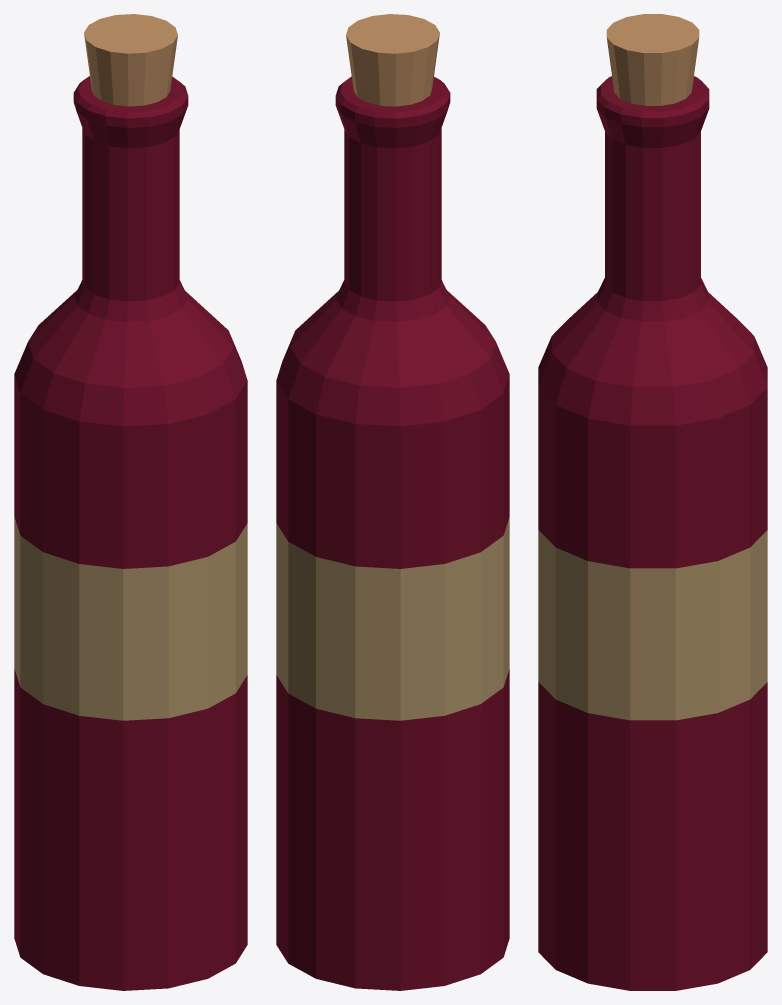
File: WineBottle1_Pink.fbx
The picture shows the model from 3 angles, left to right: view 1: azimuth 30°, elevation 25°; view 2: azimuth 150°, elevation 25°; view 3: azimuth 270°, elevation 25°; orthographic projection.
Visible parts, largest first — view 1: WineBottle V1 Green.003; view 2: WineBottle V1 Green.003; view 3: WineBottle V1 Green.003.
Boxes of the visible parts, <box> form: WineBottle V1 Green.003: <box>14,14,247,990</box>; WineBottle V1 Green.003: <box>276,14,509,990</box>; WineBottle V1 Green.003: <box>538,14,767,990</box>.
Bounding box in the file's own units: 6.87 × 30 × 6.87.
